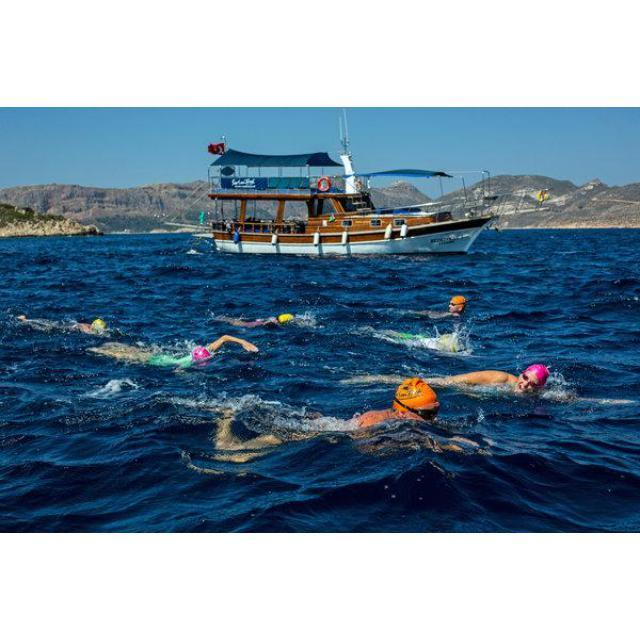human: (296, 371, 442, 444), (133, 331, 259, 372), (437, 360, 557, 400), (443, 293, 468, 317)
